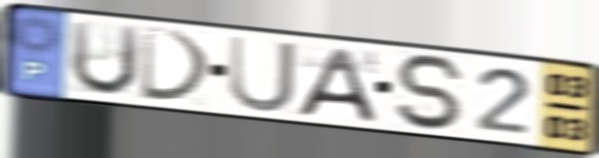2: (474, 65, 534, 137)
A: (292, 46, 380, 125)
D: (138, 24, 216, 105)
S: (392, 52, 469, 133)
U: (67, 18, 143, 99), (227, 33, 299, 115)
